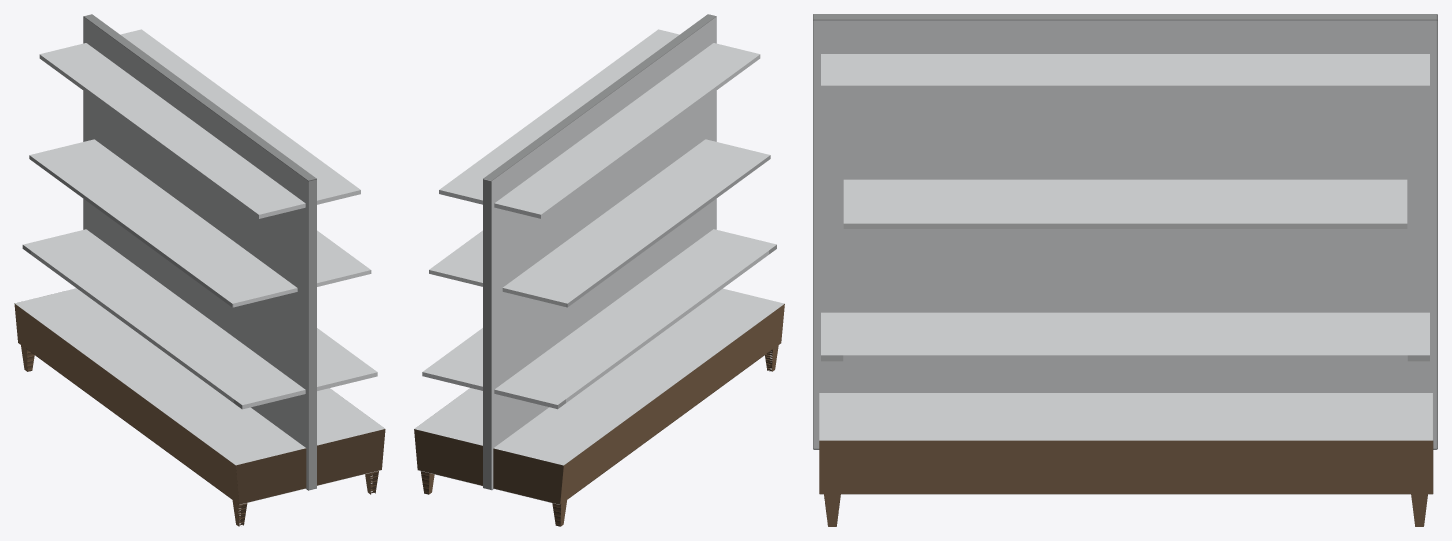
File: Shop_shelf_type2.FBX
The picture shows the model from 3 angles, left to right: view 1: azimuth 30°, elevation 25°; view 2: azimuth 150°, elevation 25°; view 3: azimuth 270°, elevation 25°; orthographic projection. The views are drawn at different scales.
Visible parts, largest first — view 1: Shop_shelf_type2_002; view 2: Shop_shelf_type2_002; view 3: Shop_shelf_type2_002.
Part boxes in pixels (x1=…): Shop_shelf_type2_002: x1=14, y1=14, x2=385, y2=526; Shop_shelf_type2_002: x1=414, y1=14, x2=784, y2=526; Shop_shelf_type2_002: x1=813, y1=14, x2=1437, y2=526.
Bounding box in the file's own units: 281 × 599 × 731.
Materials: 1 (1 with a texture image).
